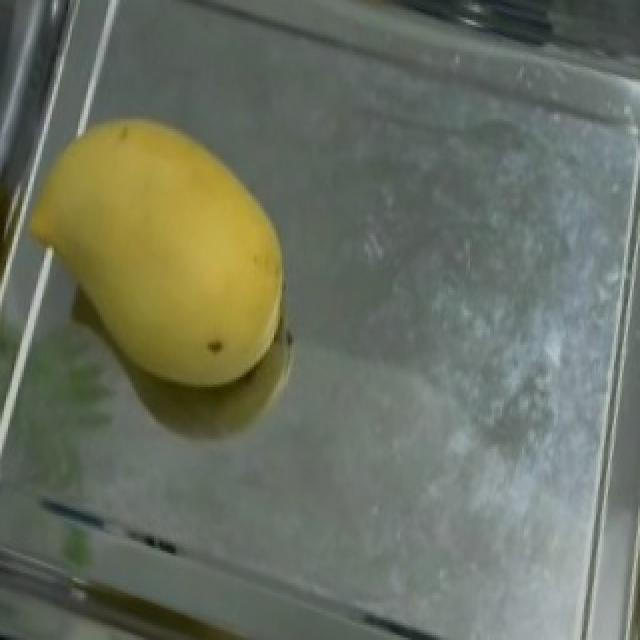fruit: (6, 77, 346, 432)
